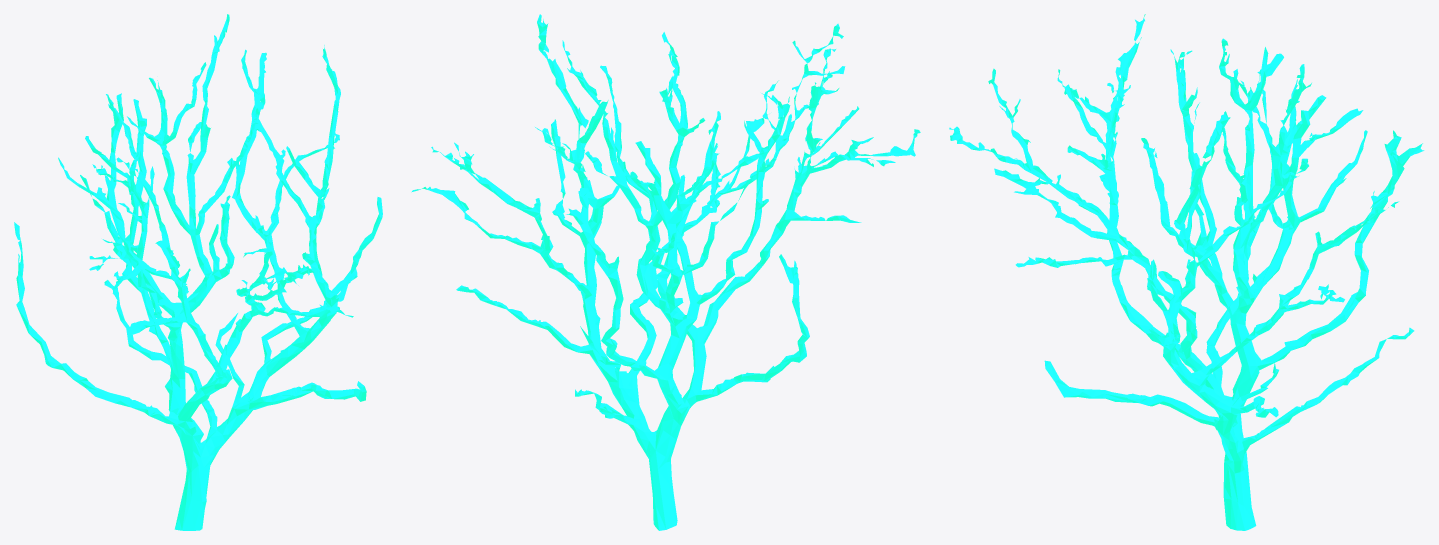
Rendered from WOODLAB3JS.glb.
3 renders of one model, left to right at view 1: azimuth 30°, elevation 25°; view 2: azimuth 150°, elevation 25°; view 3: azimuth 270°, elevation 25°, orthographic. The views are drawn at different scales.
Parts seen in each view (by area): view 1: woodlab.001; view 2: woodlab.001; view 3: woodlab.001.
Boxes of the visible parts, box(x1,y1,x2,y2) form: woodlab.001: box(14, 14, 382, 530); woodlab.001: box(411, 14, 920, 530); woodlab.001: box(949, 14, 1424, 530).
Bounding box in the file's own units: 14.05 × 17.77 × 15.38.
